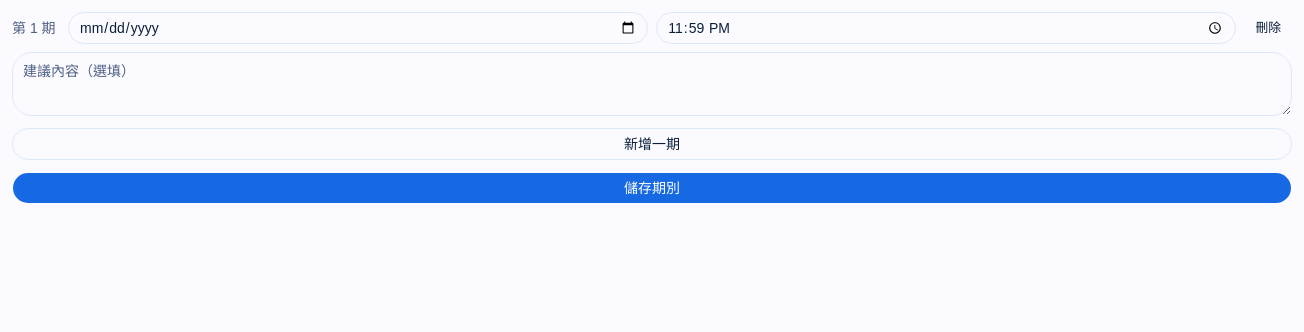
Scenario: PeriodsForm › 按「新增一期」多一列；時間預設 23:59
The image size is (1304, 332).
Expected: the number of date fields named "期日期" is 1, [68, 12, 648, 44]
Click the button "新增一期" at (652, 144), box [12, 128, 1292, 160]
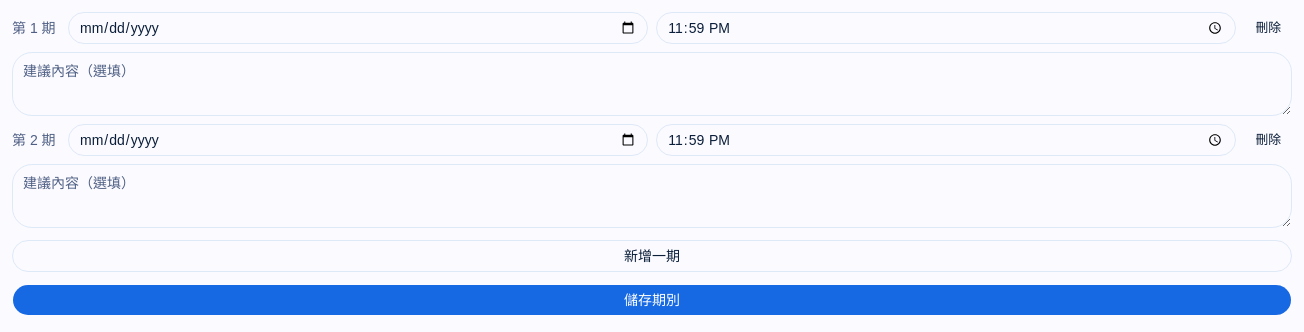
Expected: the number of date fields named "期日期" is 2, [68, 12, 648, 44]; [68, 124, 648, 156]
Expected: the time field named "期時間" holds "23:59", [656, 124, 1236, 156]
